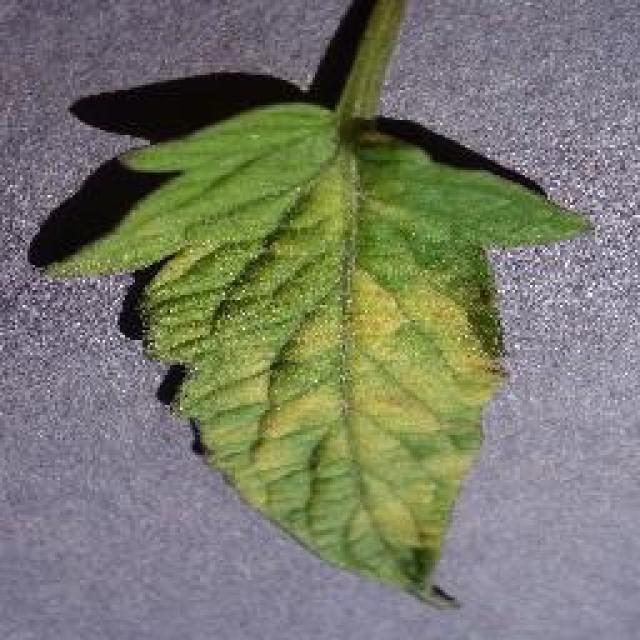Tomato___Leaf_Mold: (48, 0, 585, 605)
